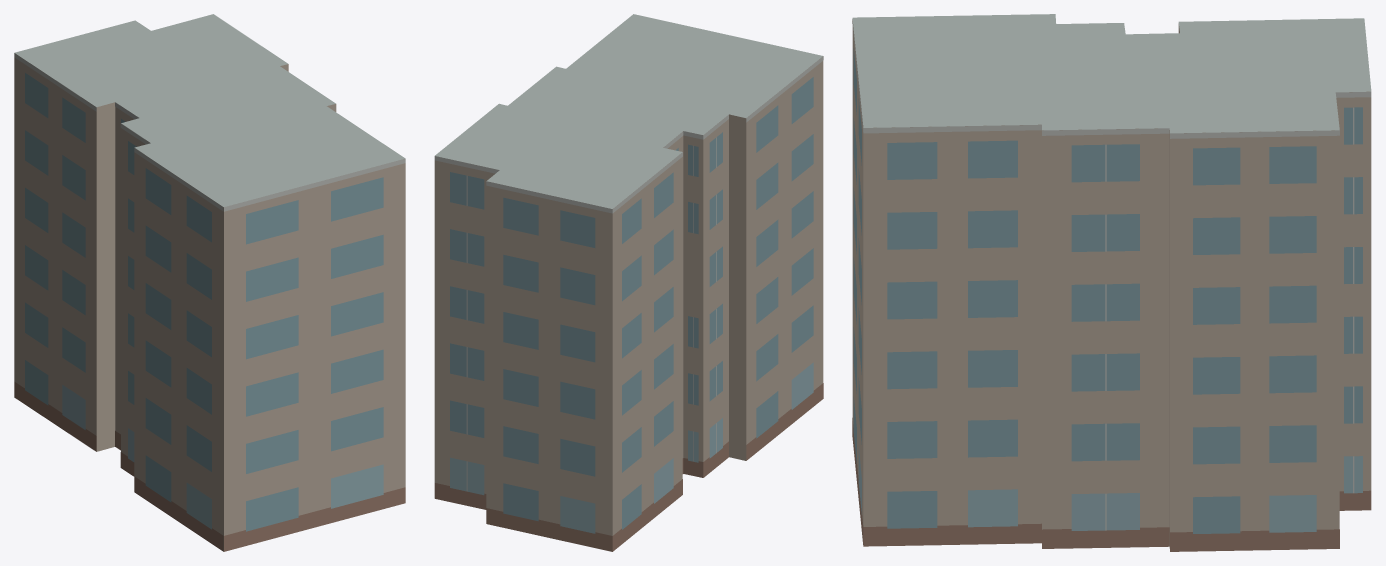
The model's file is survey-upis-32551683.glb.
3 renders of one model, left to right at view 1: azimuth 30°, elevation 25°; view 2: azimuth 150°, elevation 25°; view 3: azimuth 270°, elevation 25°, orthographic. The views are drawn at different scales.
Visible parts, largest first — view 1: survey-upis-32551683.tmp; view 2: survey-upis-32551683.tmp; view 3: survey-upis-32551683.tmp.
Part boxes in pixels (x1,y1,x2,y2): survey-upis-32551683.tmp: [14, 14, 405, 551]; survey-upis-32551683.tmp: [434, 14, 823, 551]; survey-upis-32551683.tmp: [852, 14, 1371, 551].
Bounding box in the file's own units: 11.45 × 18.7 × 21.03.
